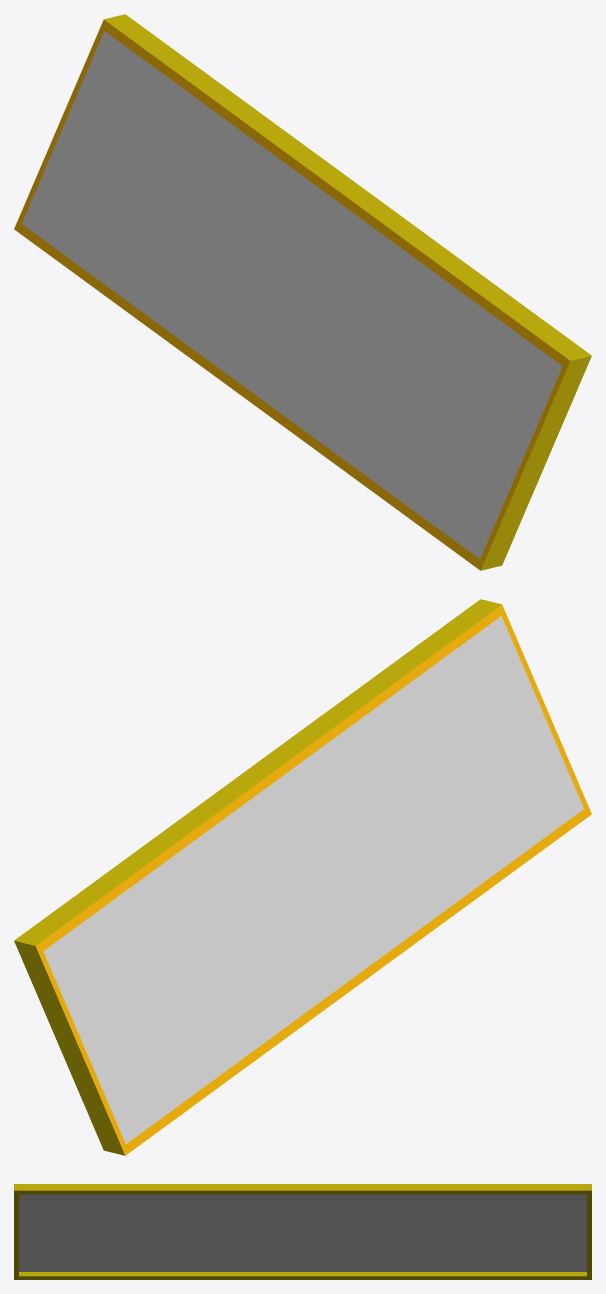
Rendered from window_slanted_9x1x2.dae.
3 renders of one model, top to bottom at view 1: azimuth 30°, elevation 25°; view 2: azimuth 150°, elevation 25°; view 3: azimuth 270°, elevation 25°, orthographic. The views are drawn at different scales.
Visible parts, largest first — view 1: Cube; view 2: Cube; view 3: Cube.
Part boxes in pixels (<box>): Cube: <box>14,14,591,570</box>; Cube: <box>14,599,591,1155</box>; Cube: <box>14,1184,591,1279</box>.
Bounding box in the file's own units: 0.31 × 2.25 × 0.5.
